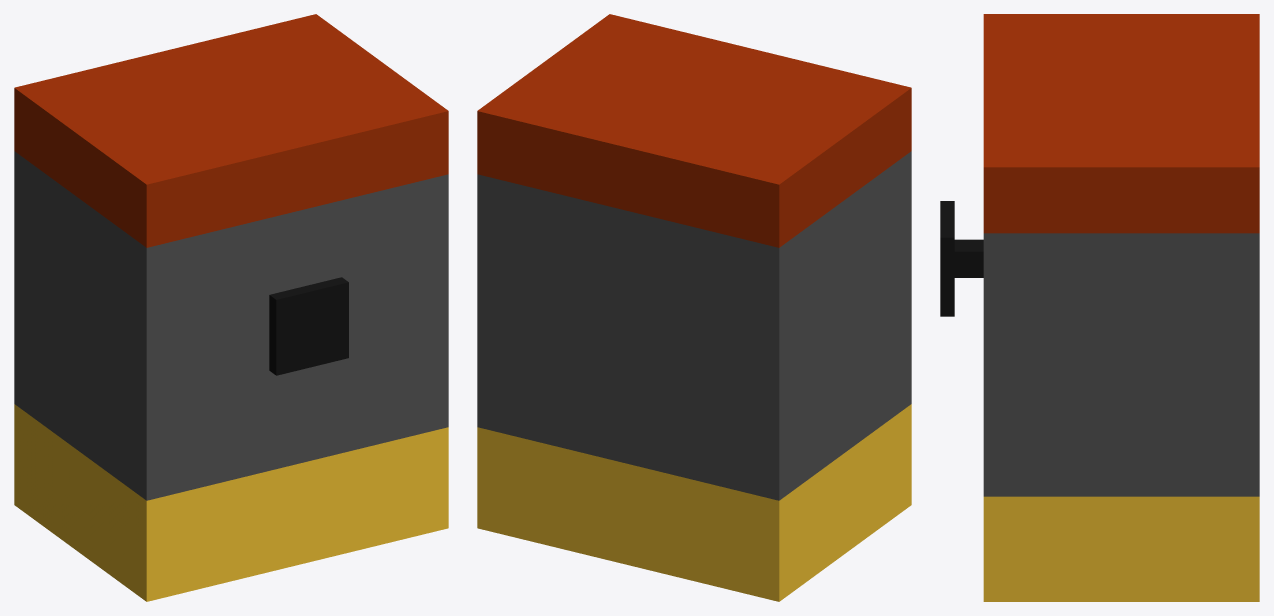
The model's file is NoBrakeTrain.obj.
3 renders of one model, left to right at view 1: azimuth 30°, elevation 25°; view 2: azimuth 150°, elevation 25°; view 3: azimuth 270°, elevation 25°, orthographic. The views are drawn at different scales.
Size of the model in its own units: 2.5 by 3.3 by 2.2.
Materials: 1 (1 with a texture image).
